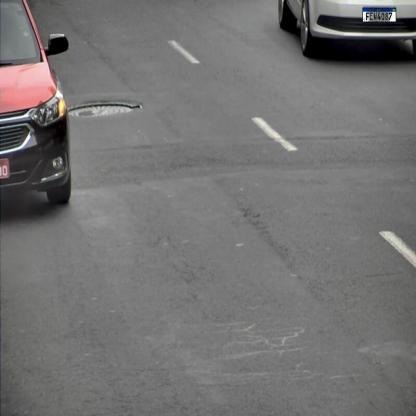PlacaM: (362, 8, 396, 22)
